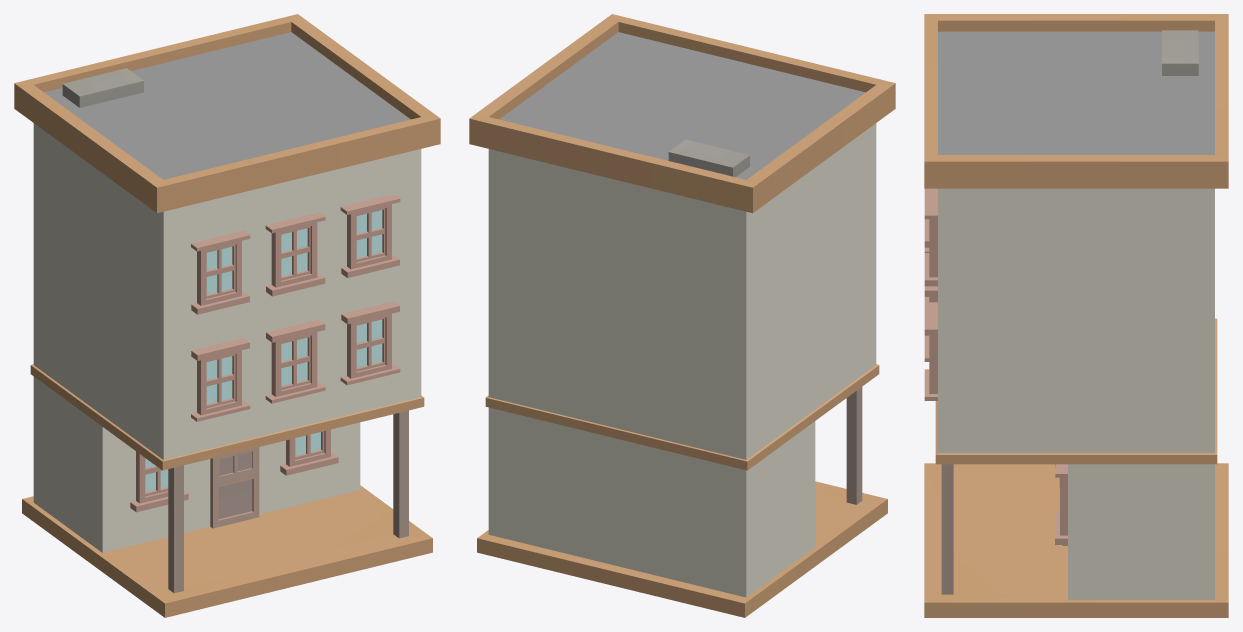
Rendered from motel-flat2.glb.
3 views of the same model, side by side, from view 1: azimuth 30°, elevation 25°; view 2: azimuth 150°, elevation 25°; view 3: azimuth 270°, elevation 25° (orthographic). The views are drawn at different scales.
Visible parts, largest first — view 1: Flat2; view 2: Flat2; view 3: Flat2.
Part boxes in pixels (x1,y1,x2,y2): Flat2: (14, 14, 440, 617); Flat2: (469, 14, 895, 617); Flat2: (924, 14, 1228, 617).
Bounding box in the file's own units: 1 × 1.46 × 0.8725.
1 material, 1 textured.
